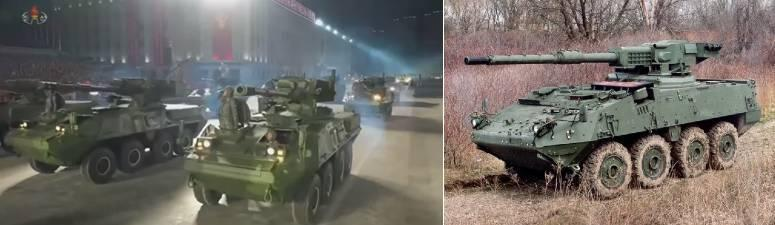MIL_IFV: (463, 37, 761, 199), (187, 71, 357, 224), (4, 71, 207, 183)
